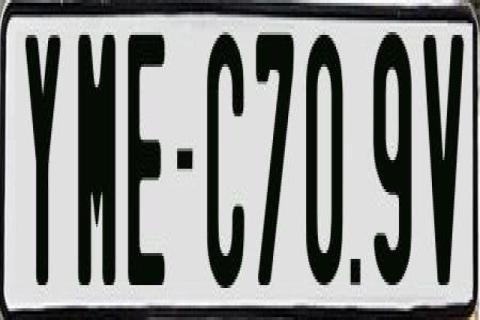0: (256, 32, 298, 300), (306, 32, 344, 291), (374, 29, 412, 288)
C: (206, 23, 250, 297)
E: (126, 35, 162, 297)
M: (78, 35, 118, 299)
V: (420, 35, 462, 288)
Y: (25, 35, 65, 294)
